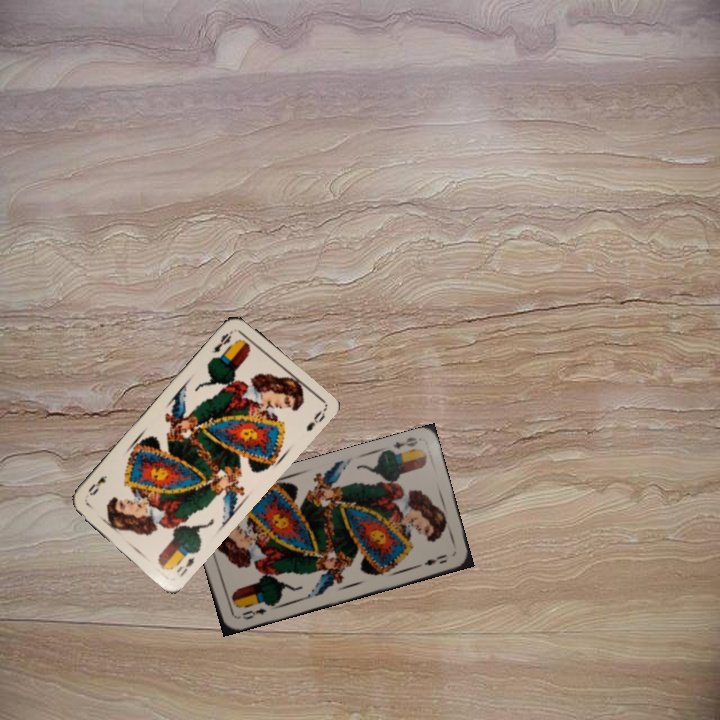EO: (207, 326, 236, 356), (172, 552, 198, 579), (237, 603, 269, 623), (389, 433, 420, 452)
